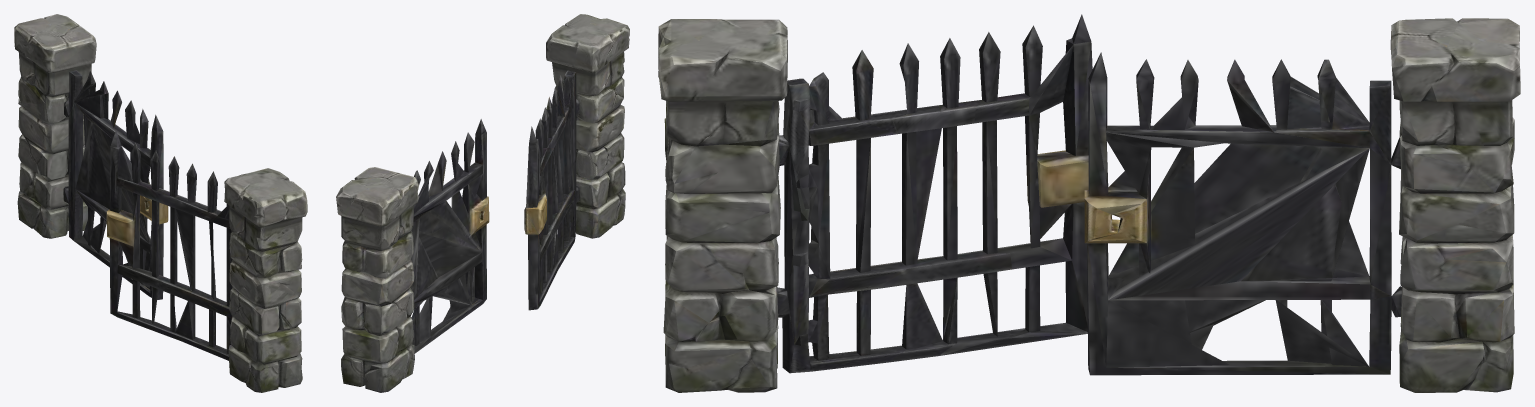
Rendered from vgate_open_3d.glb.
3 views of the same model, side by side, from view 1: azimuth 30°, elevation 25°; view 2: azimuth 150°, elevation 25°; view 3: azimuth 270°, elevation 25° (orthographic). The views are drawn at different scales.
Parts seen in each view (by area): view 1: Mesh_0; view 2: Mesh_0; view 3: Mesh_0.
Part boxes in pixels (bbox=[...]): Mesh_0: bbox=[14, 14, 307, 392]; Mesh_0: bbox=[336, 14, 629, 392]; Mesh_0: bbox=[658, 14, 1520, 392].
Bounding box in the file's own units: 0.57 × 1.29 × 3.
Materials: 1 (1 with a texture image).
